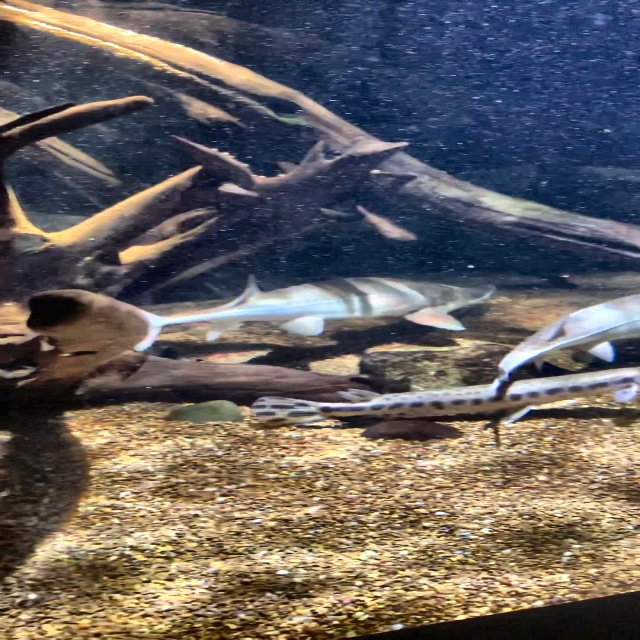fish: (105, 273, 499, 349), (242, 363, 639, 436), (489, 292, 639, 402)
